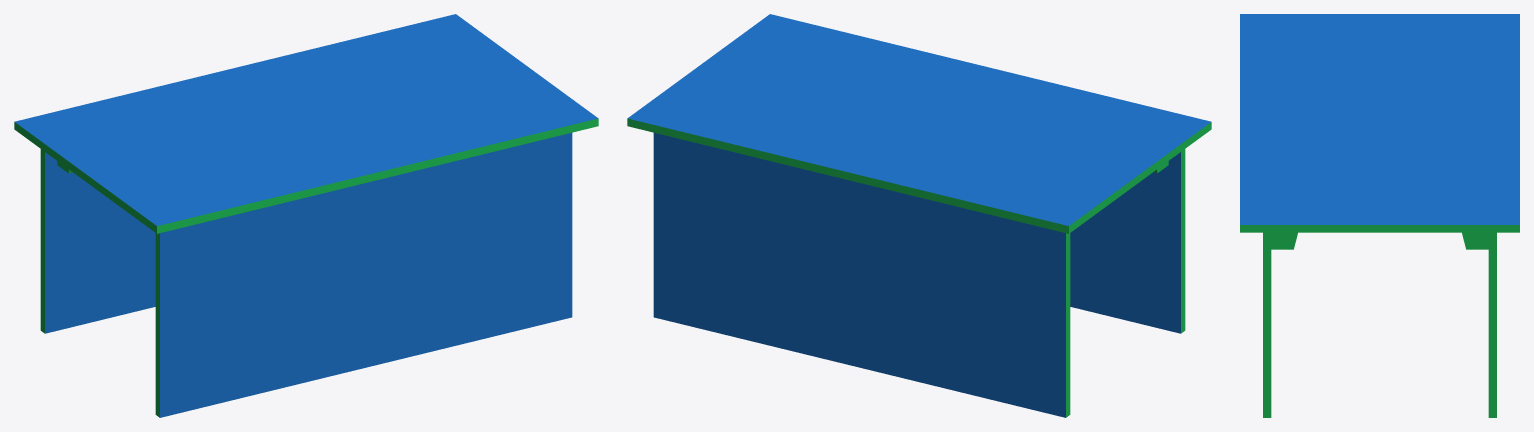
File: SM_plywood_fence.fbx
3 views of the same model, side by side, from view 1: azimuth 30°, elevation 25°; view 2: azimuth 150°, elevation 25°; view 3: azimuth 270°, elevation 25° (orthographic). The views are drawn at different scales.
Visible parts, largest first — view 1: Cube_13; view 2: Cube_13; view 3: Cube_13.
Part boxes in pixels (box(x1,y1,x2,y2)): Cube_13: box(14, 14, 598, 417); Cube_13: box(627, 14, 1211, 417); Cube_13: box(1240, 14, 1519, 417).
Bounding box in the file's own units: 179 × 78.85 × 100.
